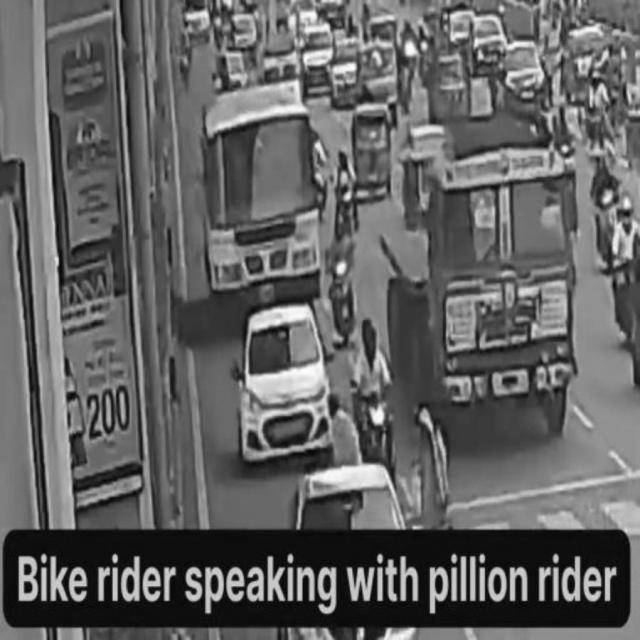person: (407, 392, 457, 532), (319, 385, 363, 467)
vehicle: (419, 158, 575, 428), (284, 459, 418, 639), (203, 99, 321, 297), (245, 308, 331, 452), (349, 322, 401, 476), (327, 225, 365, 349)
